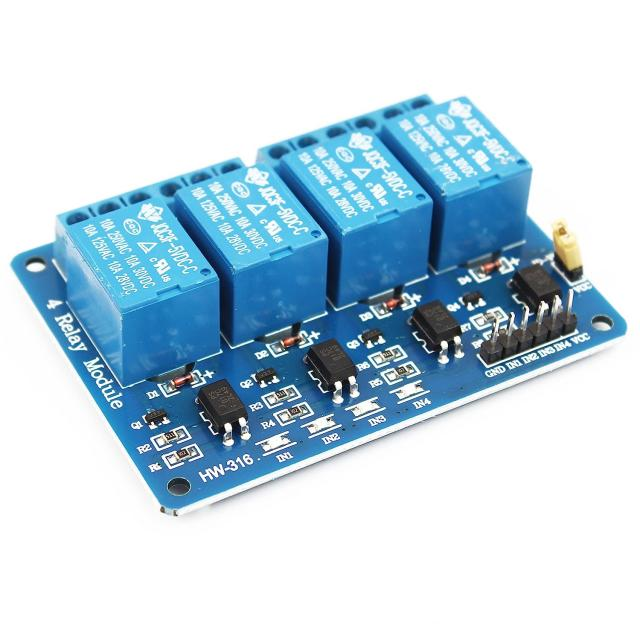4439: (139, 398, 169, 426), (360, 322, 388, 348), (460, 286, 490, 310), (256, 362, 280, 388)
IC: (194, 371, 248, 440), (410, 296, 465, 358), (305, 338, 360, 394), (510, 258, 563, 310)
LED: (399, 379, 422, 405), (306, 412, 334, 432), (356, 398, 379, 421), (264, 434, 292, 450)
connector -5v-: (486, 293, 592, 365), (553, 218, 593, 278)
diode -D1-: (370, 294, 408, 320), (470, 252, 502, 280), (168, 366, 197, 393), (270, 328, 303, 350)
relay: (56, 203, 216, 343), (178, 161, 328, 307), (276, 113, 424, 256), (390, 87, 537, 192)
resistor IR1: (474, 305, 505, 327), (169, 442, 195, 468), (261, 386, 292, 406), (372, 347, 401, 366), (158, 426, 184, 445), (280, 404, 305, 422), (391, 363, 411, 381)
